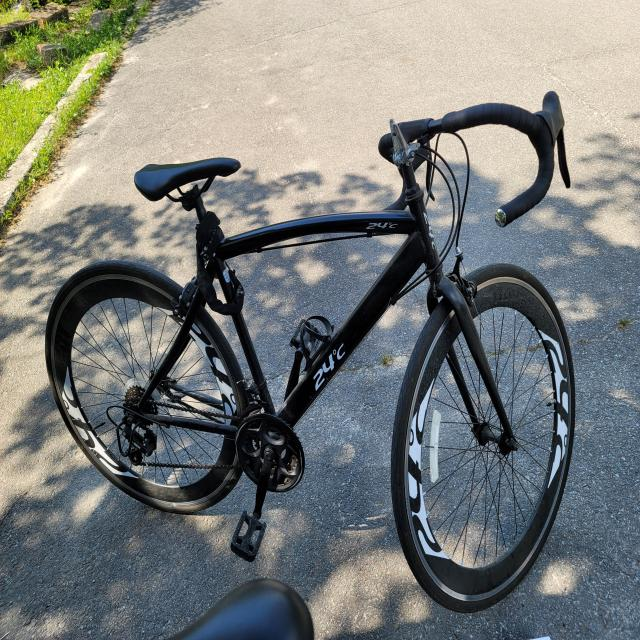bicycle: (44, 90, 576, 613)
